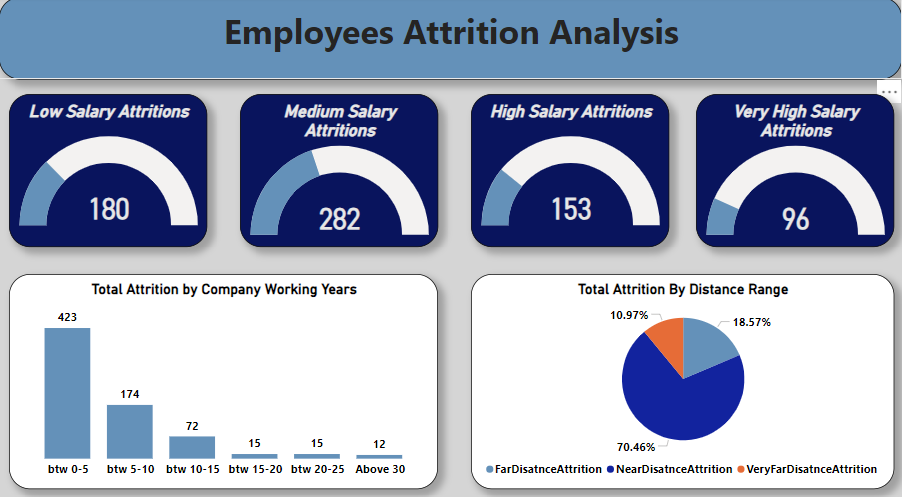

The page's visual inventory and layout, read from the dashboard file:
{"tool":"powerbi","page":{"name":"Salary Ranges","canvas":[1280,720],"ordinal":1},"visuals":[{"type":"textbox","box":[0,0,1280.2,116.6],"z":0},{"type":"columnChart","title":"Total Attrition by Company Working Years","fields":{"Y":["Model_Measures.Total Attrition"],"Category":["Fact_Table.Company_Years"]},"box":[14.2,392.6,608,304.7],"z":1000},{"type":"gauge","title":"High Salary Attritions","fields":{"Y":["Model_Measures.HighSalaryAttrition"],"MaxValue":["Model_Measures.Total Attrition"]},"box":[669,137.5,280.6,216.9],"z":2000},{"type":"gauge","title":"Very High Salary Attritions","fields":{"Y":["Model_Measures.VeryHighSalaryAttrition"],"MaxValue":["Model_Measures.Total Attrition"]},"box":[987.9,137.5,280.6,216.9],"z":3000},{"type":"gauge","title":"Low Salary Attritions ","fields":{"Y":["Model_Measures.LowSalaryAttrition"],"MaxValue":["Model_Measures.Total Attrition"]},"box":[14.2,137.5,280.6,216.9],"z":4000},{"type":"gauge","title":"Medium Salary Attritions","fields":{"MaxValue":["Model_Measures.Total Attrition"],"Y":["Model_Measures.MediumSalaryAttrition"]},"box":[341.6,137.5,280.6,216.9],"z":5000},{"type":"pieChart","title":"Total Attrition By Distance Range","fields":{"Y":["Model_Measures.FarDisatnceAttrition","Model_Measures.NearDisatnceAttrition","Model_Measures.VeryFarDisatnceAttrition"]},"box":[669,392.6,599.5,304.7],"z":6000}]}

Visuals, with their boxes in screenshot pixels (x1, y1, x2, y2), scaled from the page's 1280x720 canvas onto the 902x497 screenshot:
textbox: <bbox>0, 0, 901, 80</bbox>
"Total Attrition by Company Working Years" columnChart: <bbox>10, 271, 438, 481</bbox>
"High Salary Attritions" gauge: <bbox>471, 95, 669, 245</bbox>
"Very High Salary Attritions" gauge: <bbox>696, 95, 894, 245</bbox>
"Low Salary Attritions " gauge: <bbox>10, 95, 208, 245</bbox>
"Medium Salary Attritions" gauge: <bbox>241, 95, 438, 245</bbox>
"Total Attrition By Distance Range" pieChart: <bbox>471, 271, 894, 481</bbox>
